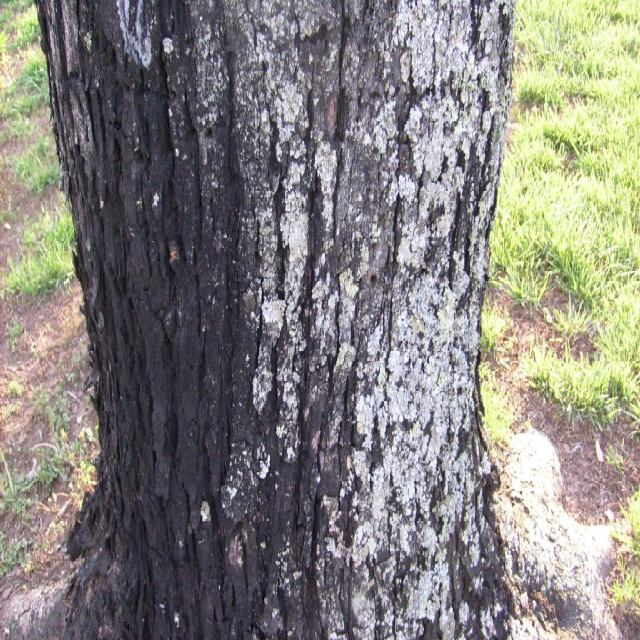Sooty Mold: (30, 0, 521, 637)
